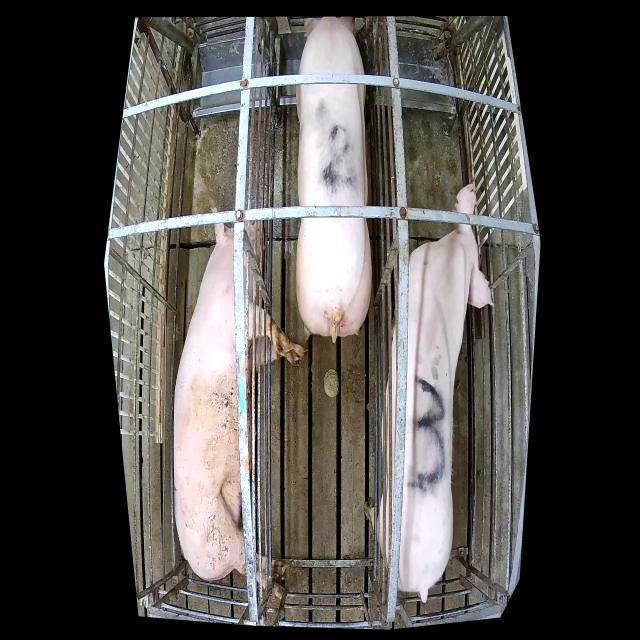pig: (363, 184, 494, 604), (174, 207, 308, 601), (296, 17, 372, 340)
